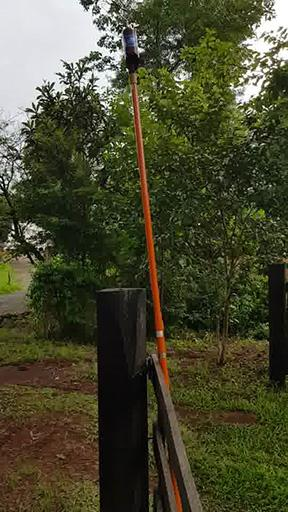Detector_Tensao_Contato: (119, 15, 139, 71)
Vara_Manobra: (126, 70, 169, 394)
